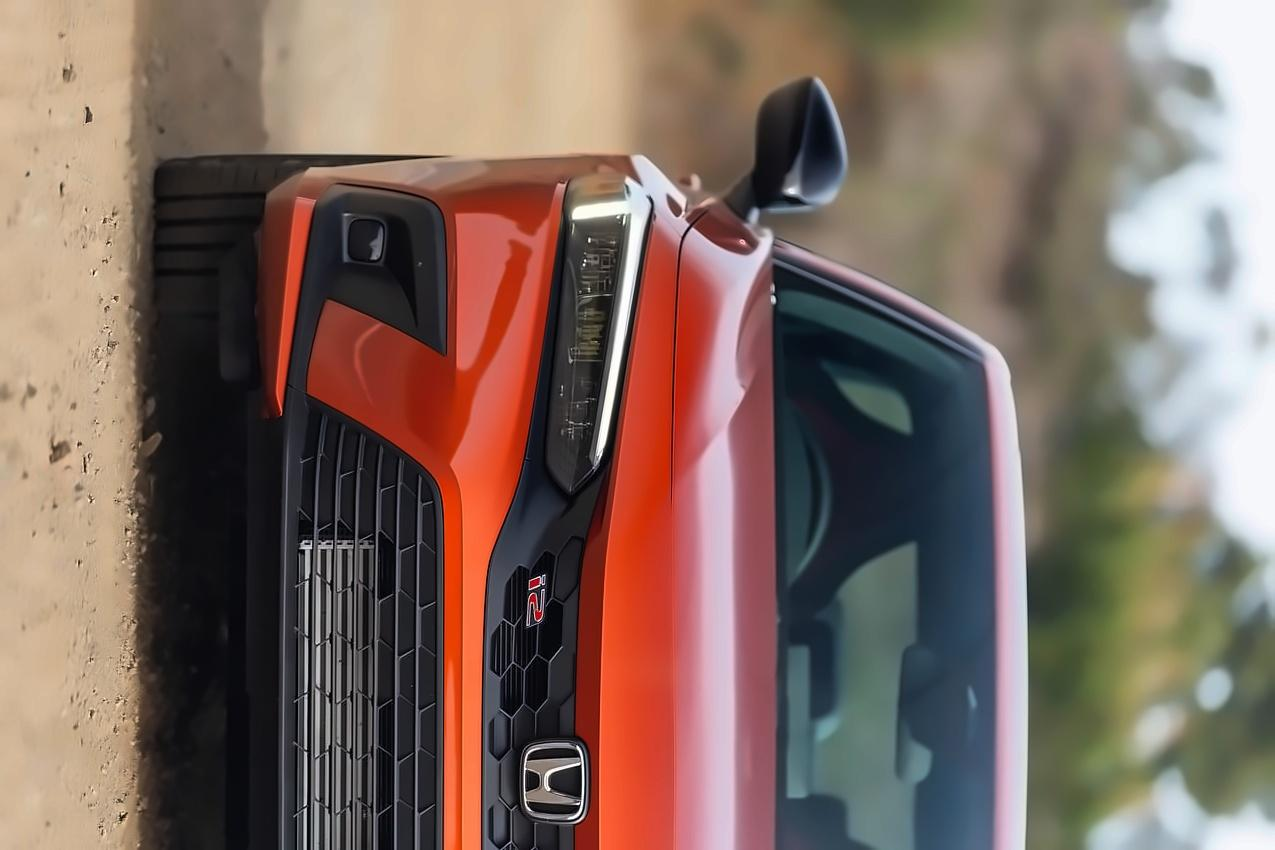Car hood: (569, 197, 784, 850)
Front bumper: (244, 135, 562, 850)
Headlight - -R-: (531, 169, 659, 498)
Side mirror - -R-: (712, 65, 865, 241)
